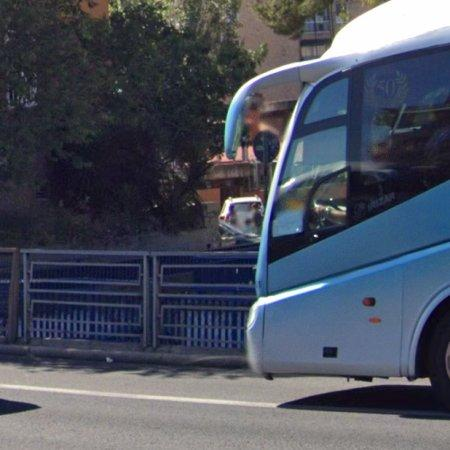buses: (226, 1, 450, 404)
